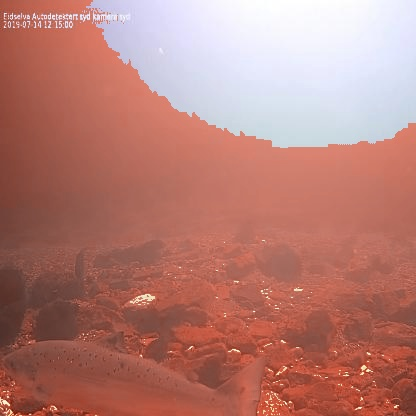salmon: (0, 327, 269, 416)
